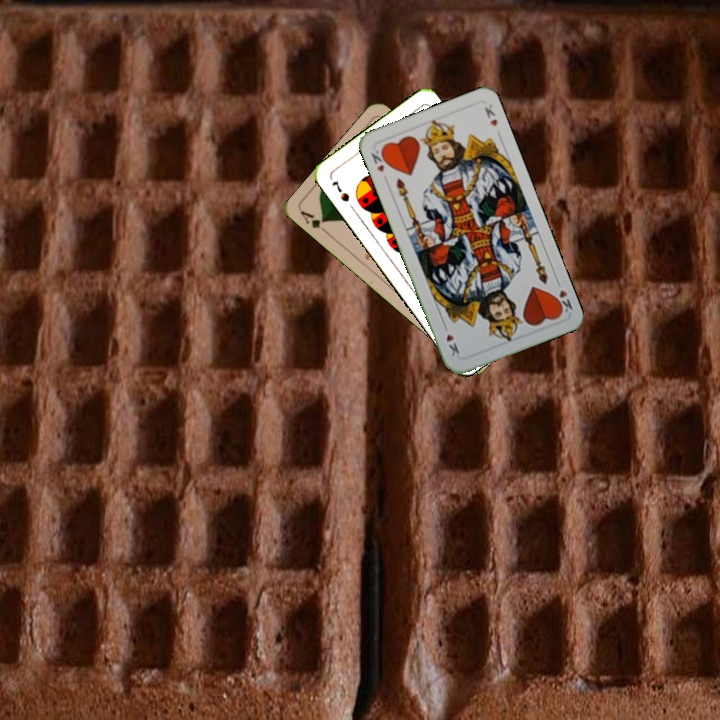GA: (297, 207, 332, 237)
HK: (550, 276, 575, 317), (367, 145, 391, 175)
S7: (328, 177, 352, 204)
